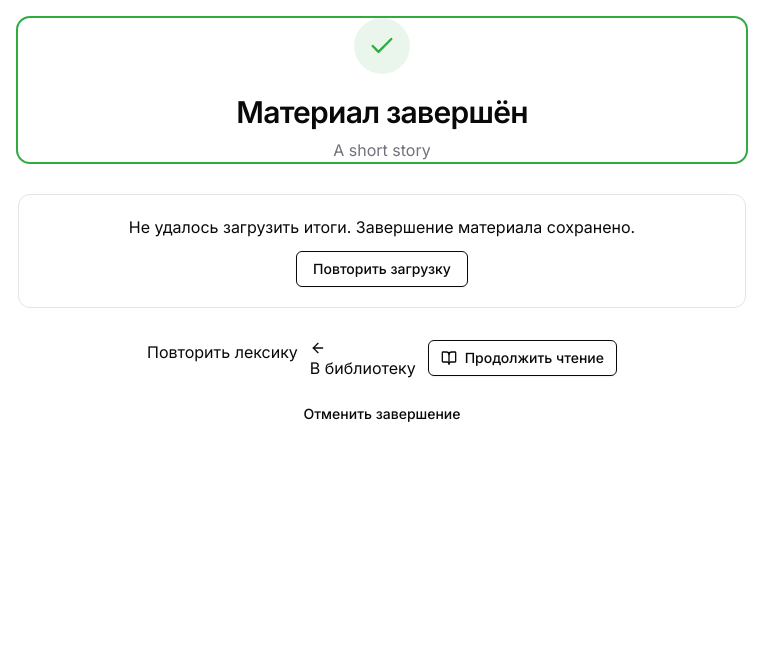
Test: keeps completion and actions available when the summary fails, then retries
Expected: the message "Не удалось загрузить итоги. Завершение материала сохранено. Повторить загрузку" is shown, [18,194,746,308]
Expected: the button "Продолжить чтение" is enabled, [428,340,617,376]
Click the button "Повторить загрузку": [382, 269] box [296,251,468,287]
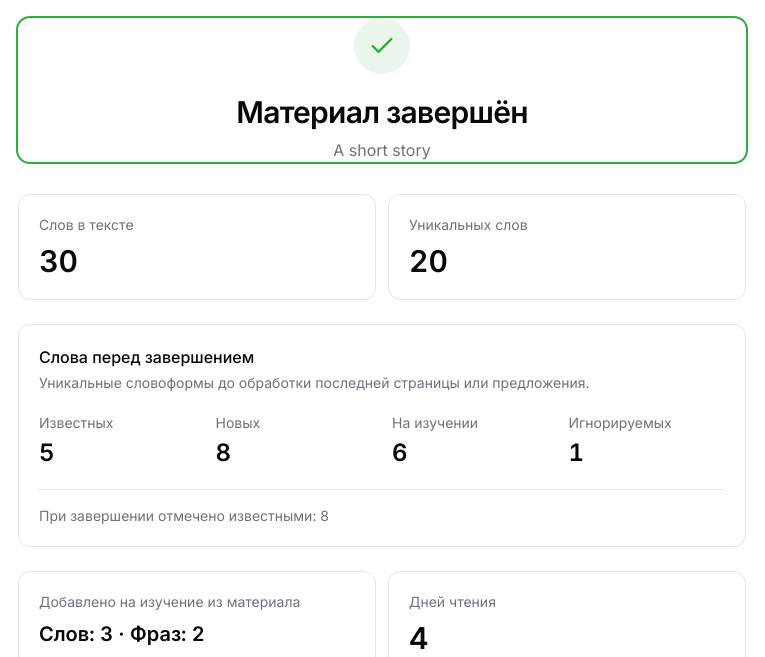
Expected: the text "Слов в тексте" is shown, [39,216,134,233]
